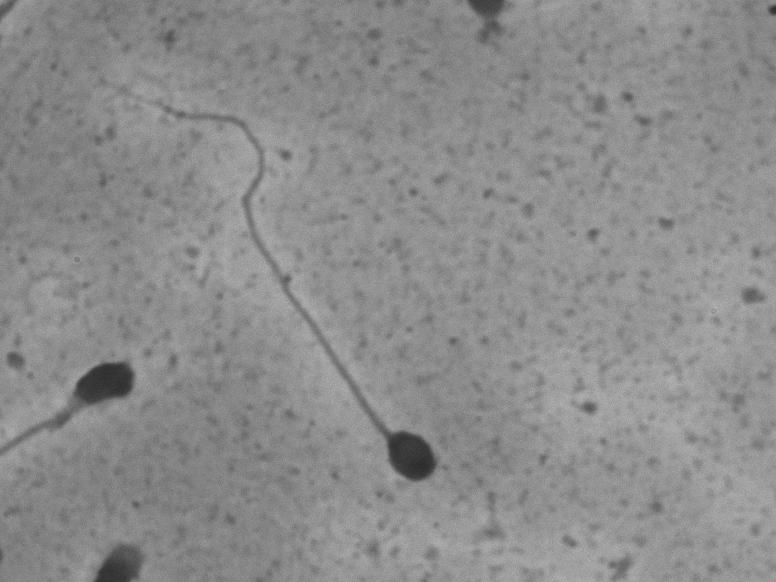Abnormal: (180, 62, 446, 511), (29, 326, 166, 488)
